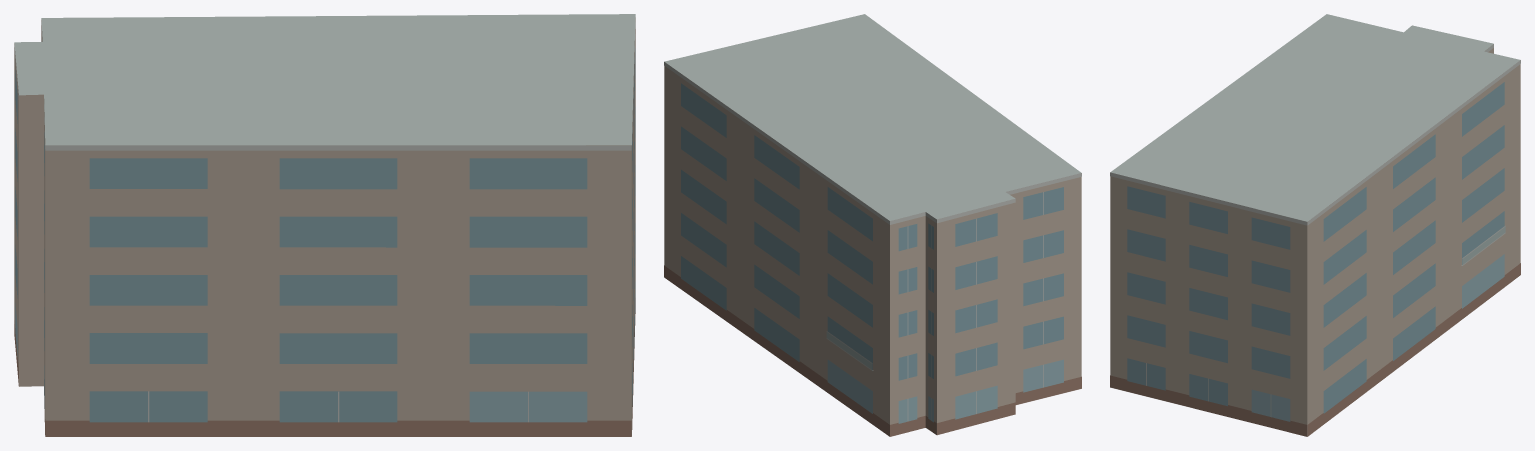
File: survey-upis-33004168.glb
The picture shows the model from 3 angles, left to right: view 1: azimuth 30°, elevation 25°; view 2: azimuth 150°, elevation 25°; view 3: azimuth 270°, elevation 25°; orthographic projection. The views are drawn at different scales.
Parts seen in each view (by area): view 1: survey-upis-33004168.tmp; view 2: survey-upis-33004168.tmp; view 3: survey-upis-33004168.tmp.
Boxes of the visible parts, x1,y1,x2,y2 form: survey-upis-33004168.tmp: (14,14,635,436); survey-upis-33004168.tmp: (664,14,1081,436); survey-upis-33004168.tmp: (1110,14,1520,436).
Size of the model in its own units: 28.19 by 13.6 by 23.54.
